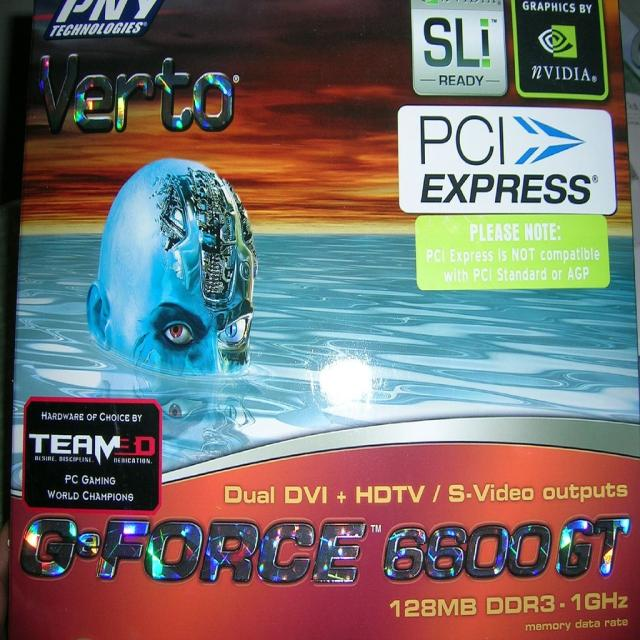nvidia: (539, 25, 580, 60)
